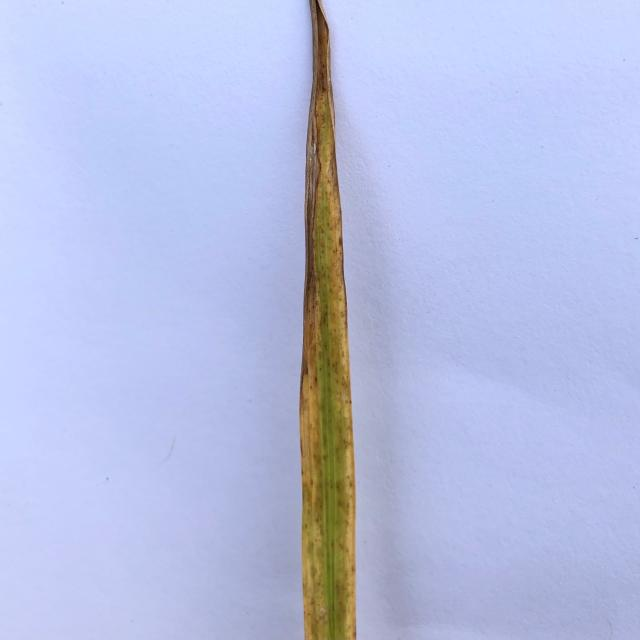tungro: (300, 0, 357, 638)
